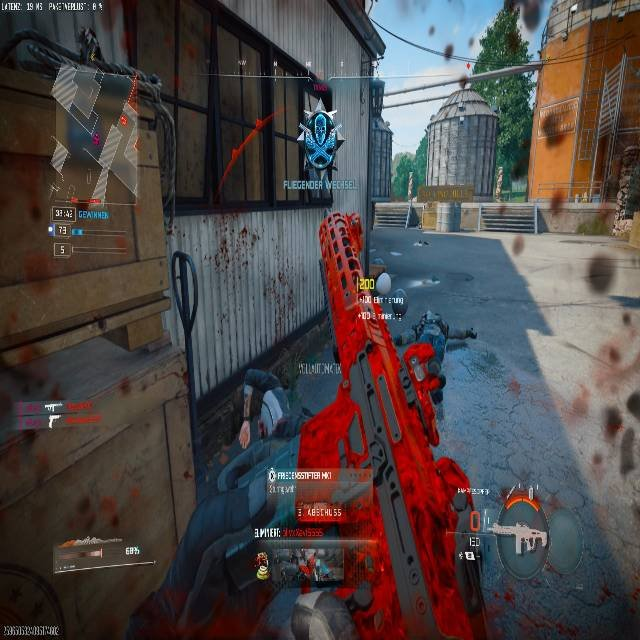player: (299, 104, 341, 196)
